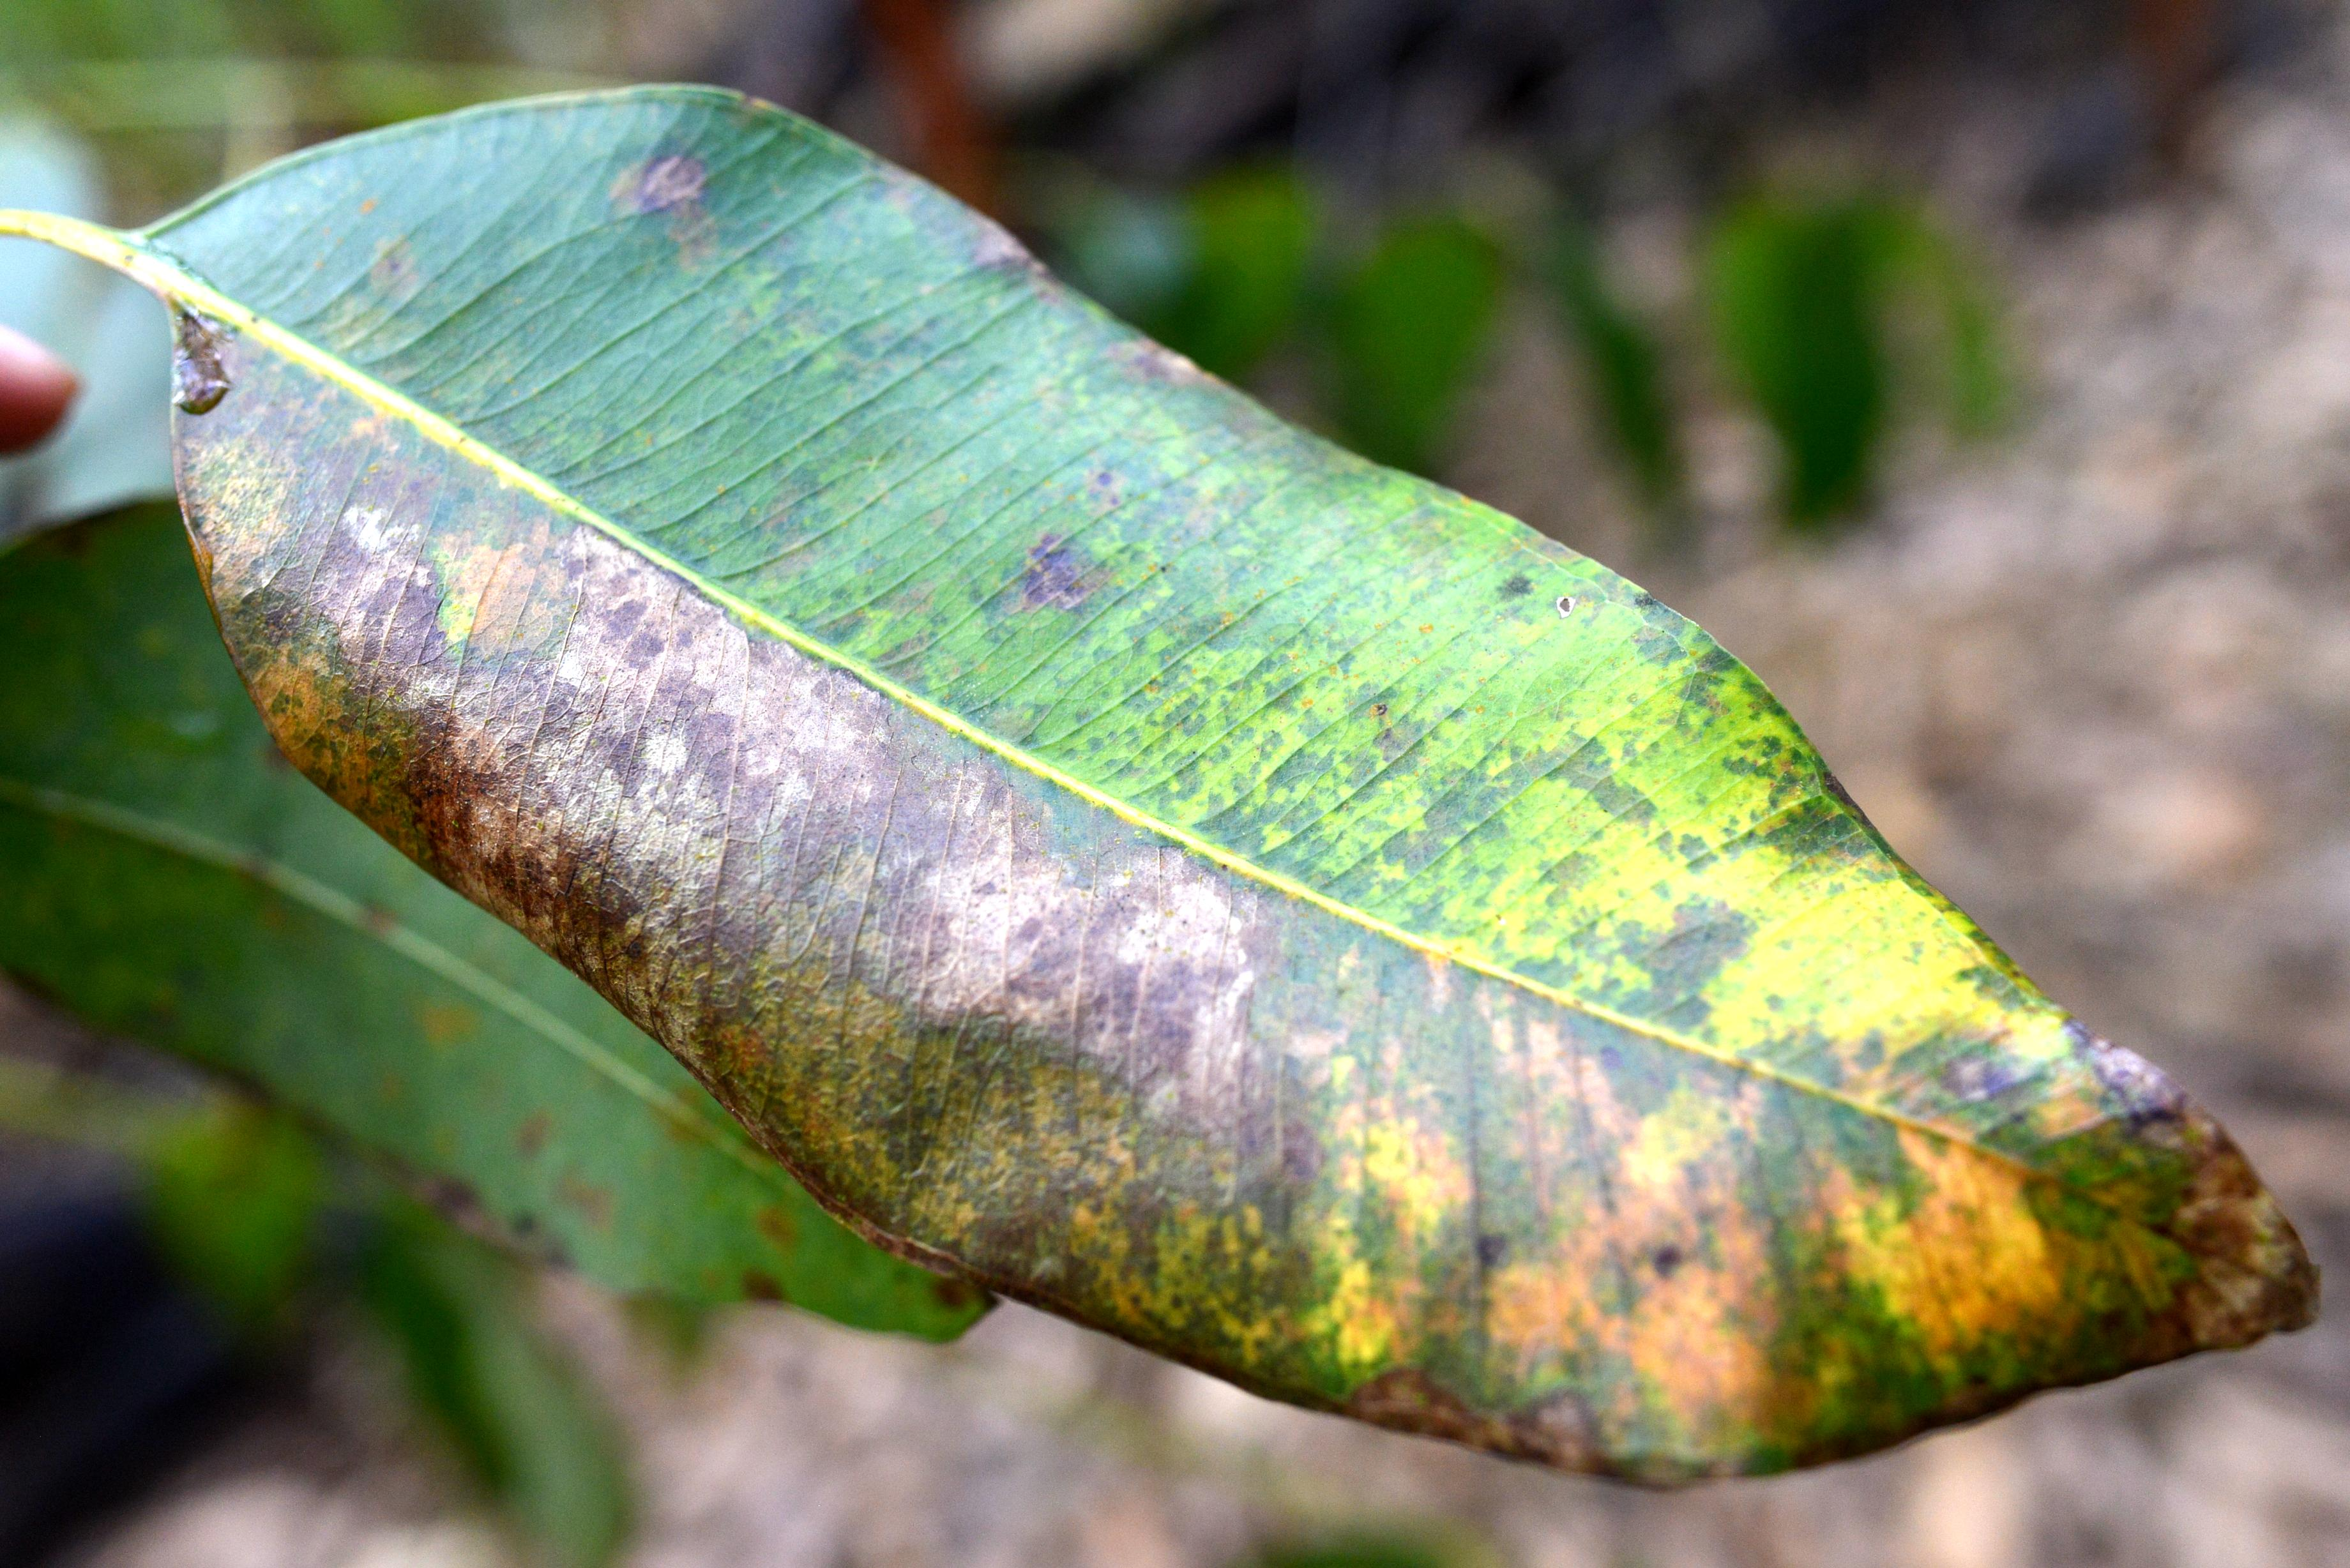Cylindrocladium: (150, 350, 2287, 1491)
